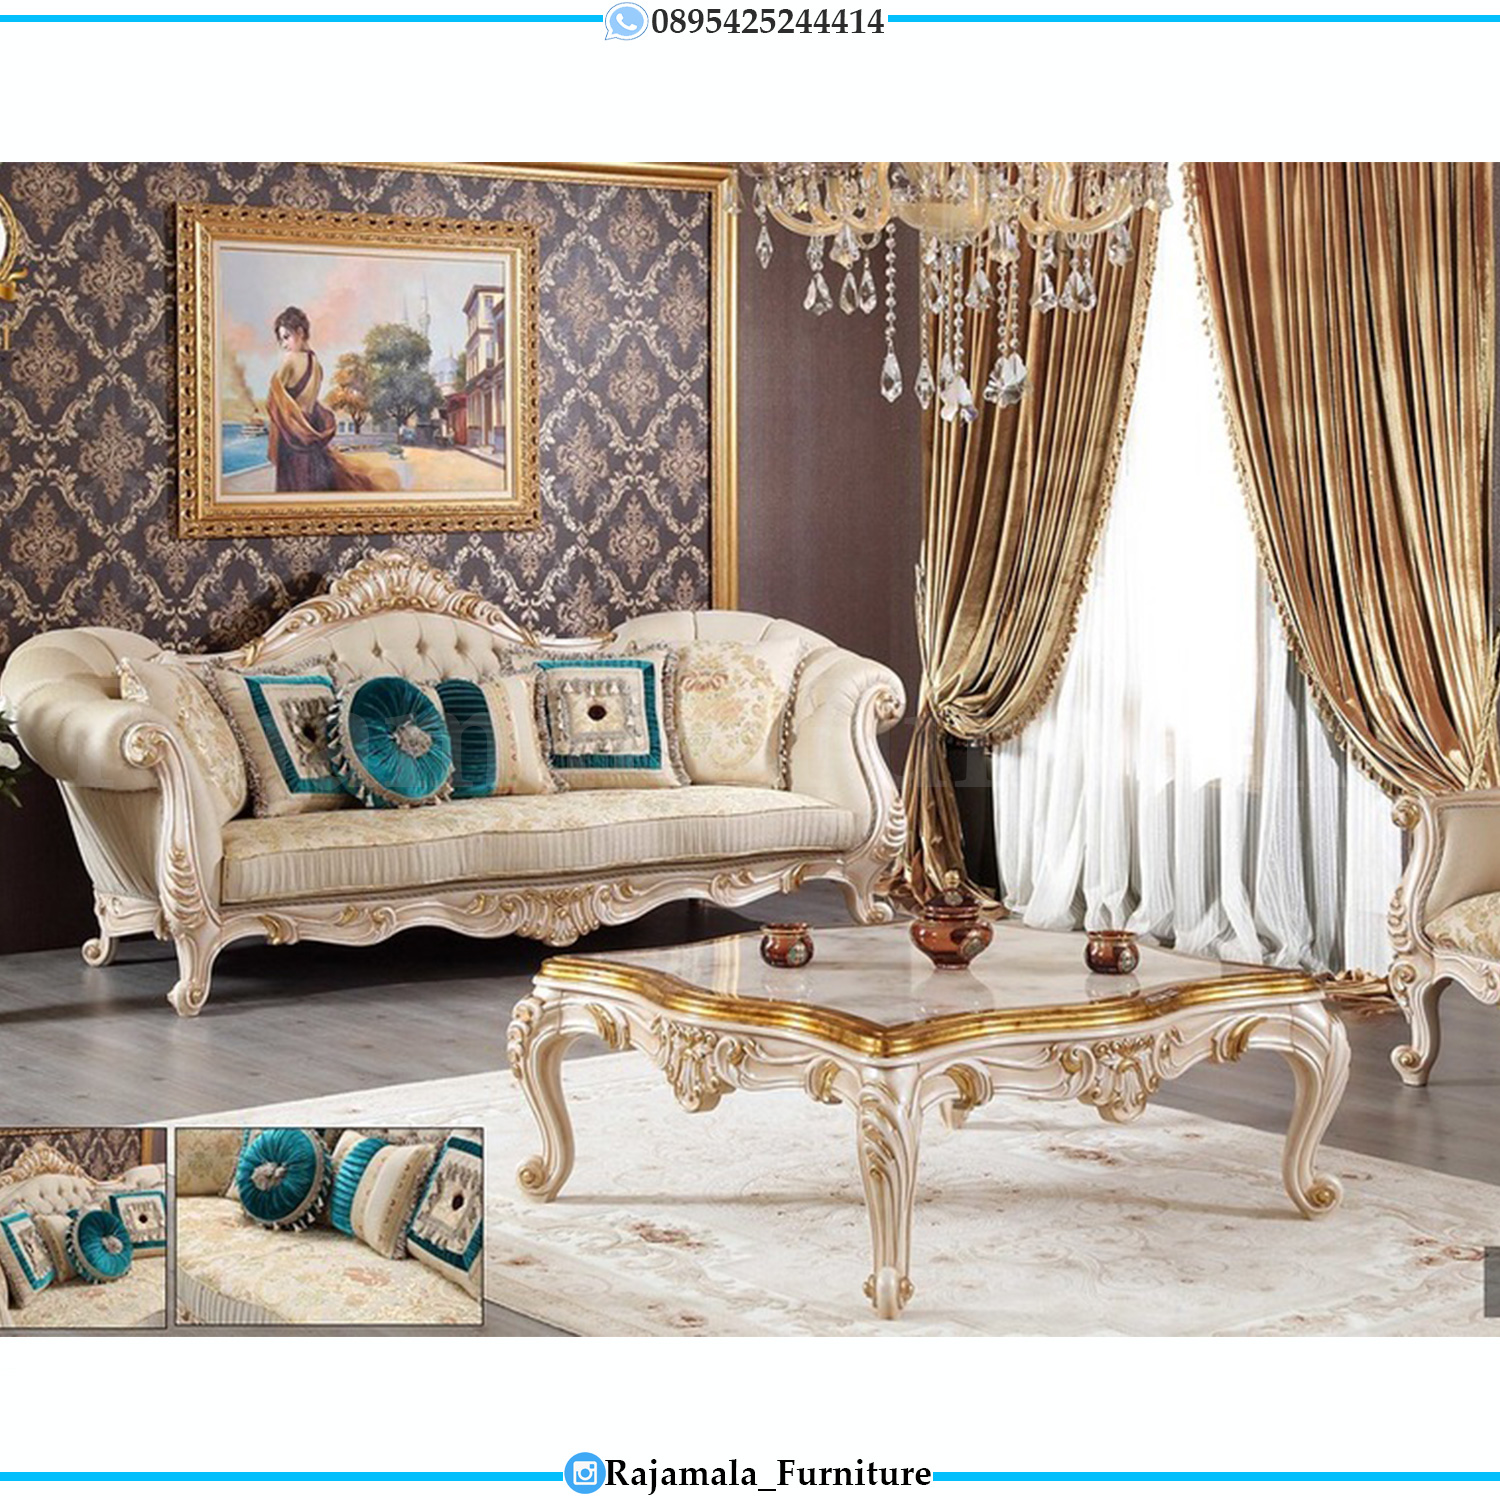bantal: (541, 646, 685, 798), (670, 630, 794, 791), (217, 669, 353, 810), (442, 669, 549, 795), (330, 1135, 415, 1251), (420, 1135, 479, 1275), (1, 1207, 59, 1293), (114, 1185, 170, 1249)
gelas: (749, 913, 821, 968), (1091, 918, 1141, 988)
lukisan: (152, 187, 549, 538)
meja: (516, 931, 1345, 1266)
sova: (12, 596, 905, 933)
